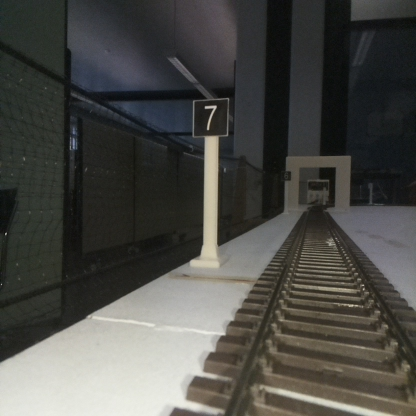black-info-6: (282, 170, 290, 213)
black-info-7: (193, 98, 228, 265)
